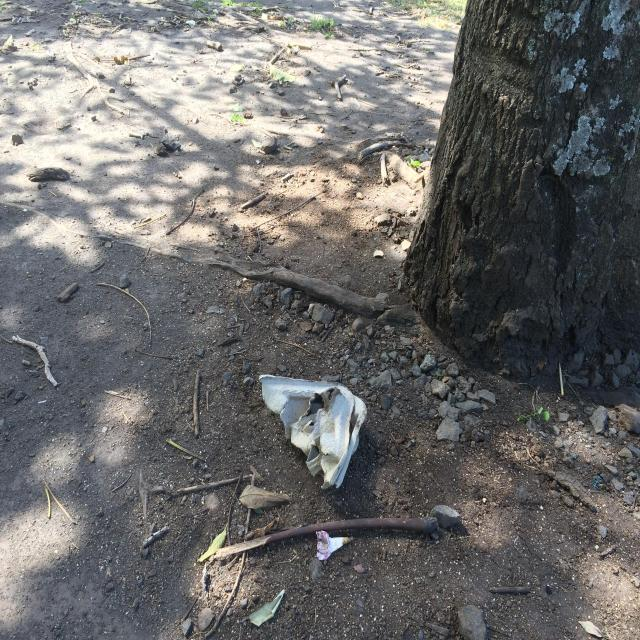Egg carton: (258, 374, 367, 489)
Other plastic bottle: (592, 474, 602, 489)
